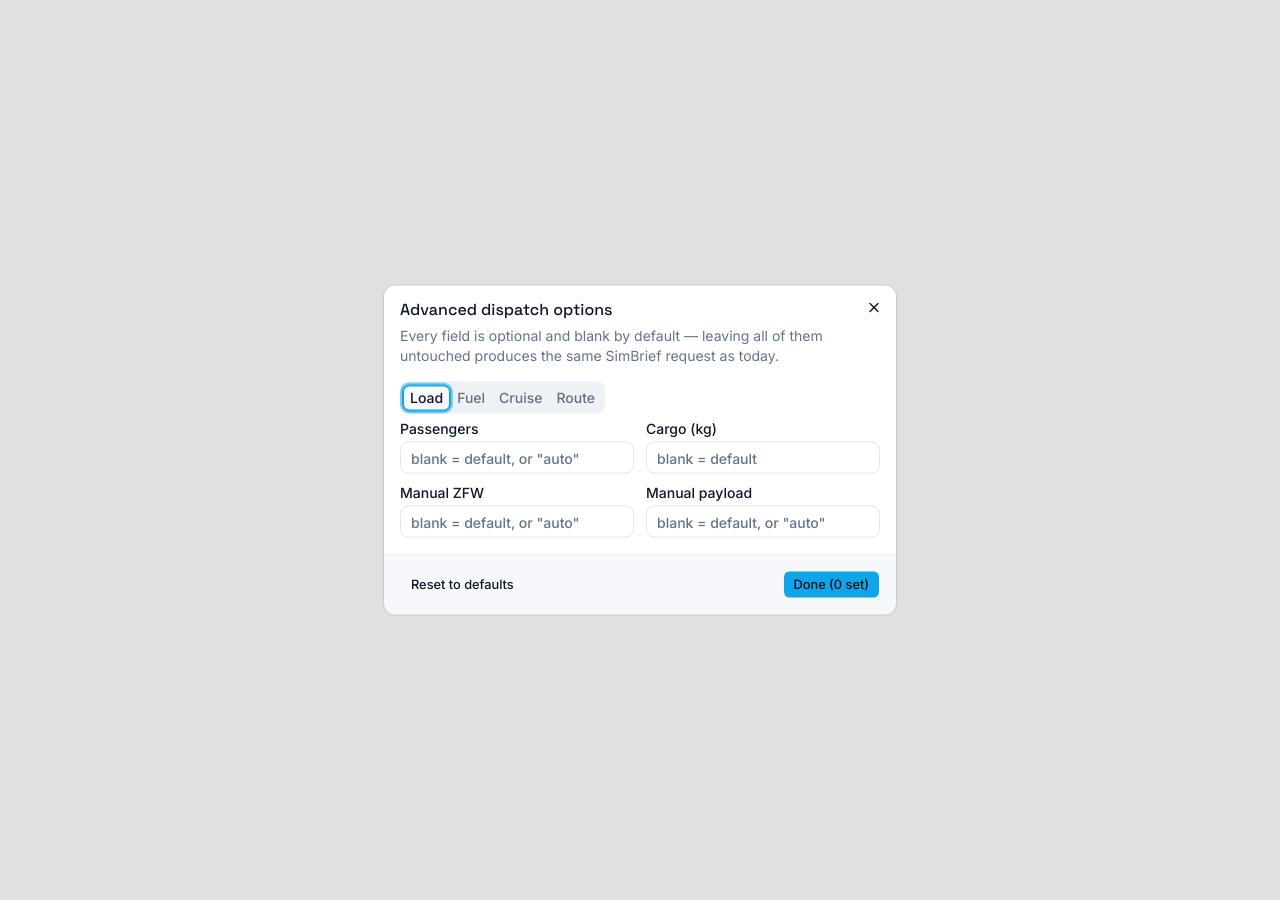
Scenario: DispatchAdvancedDialog › uses a custom placeholder when one is given
Click the tab "Fuel" at (471, 398), box [450,385,492,410]
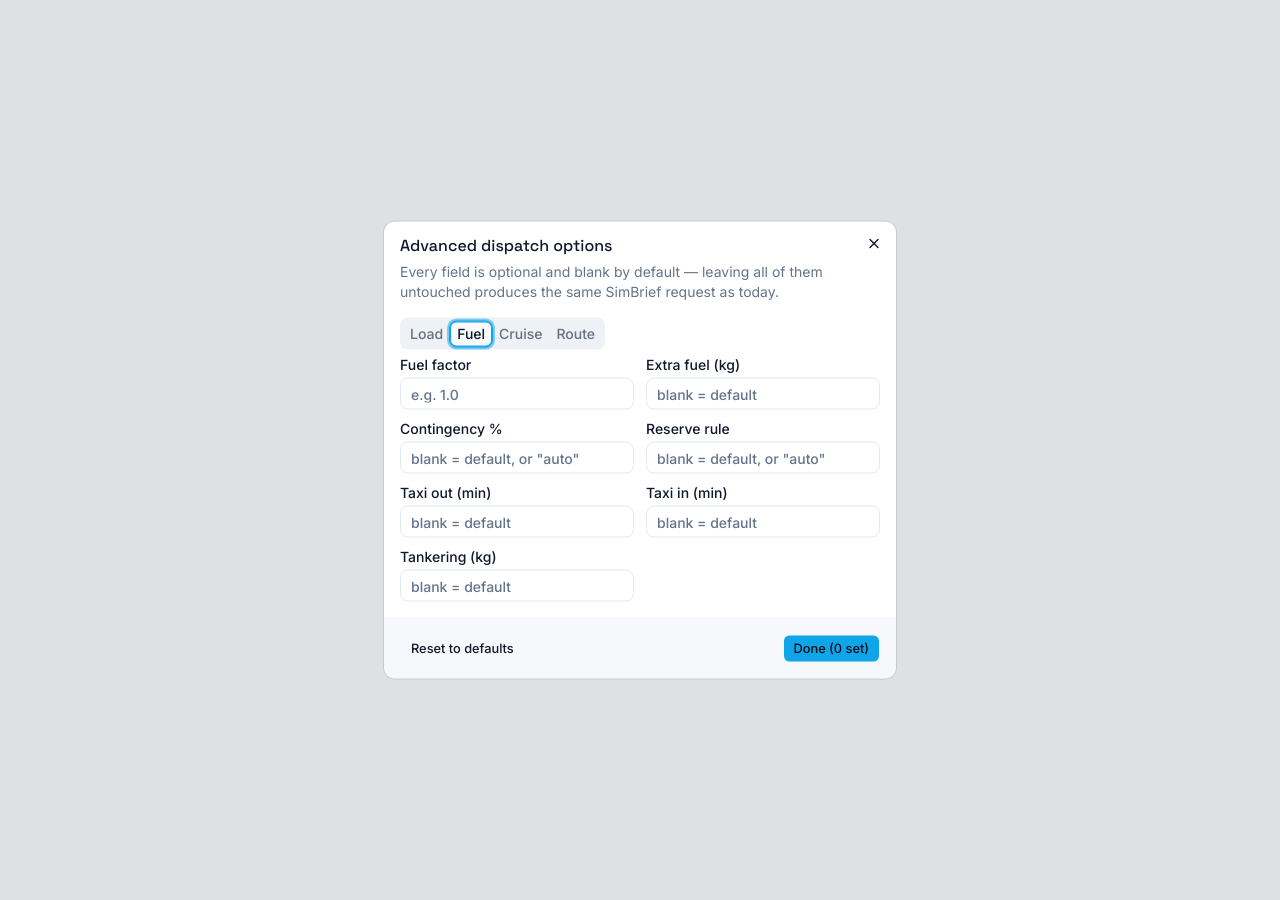
Expected: the field with placeholder "e.g. 1.0" is shown, [400,378,634,410]
Click the tab "Cruise" at (521, 334), box [492,321,550,346]
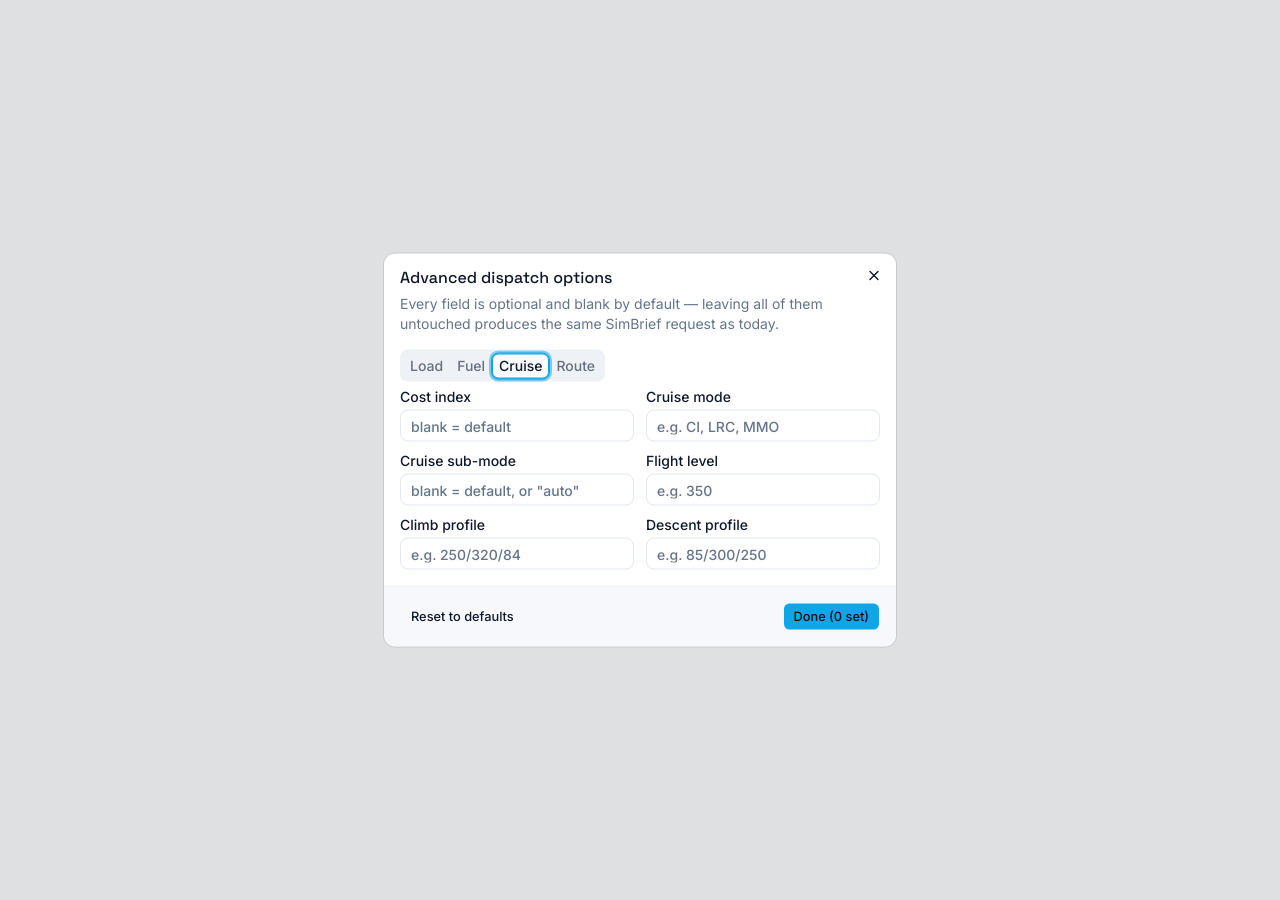
Expected: the field with placeholder "e.g. CI, LRC, MMO" is shown, [646,410,880,442]
Expected: the field with placeholder "e.g. 350" is shown, [646,474,880,506]
Expected: the field with placeholder "e.g. 250/320/84" is shown, [400,538,634,570]
Click the tab "Route" at (576, 366), box [550,353,602,378]
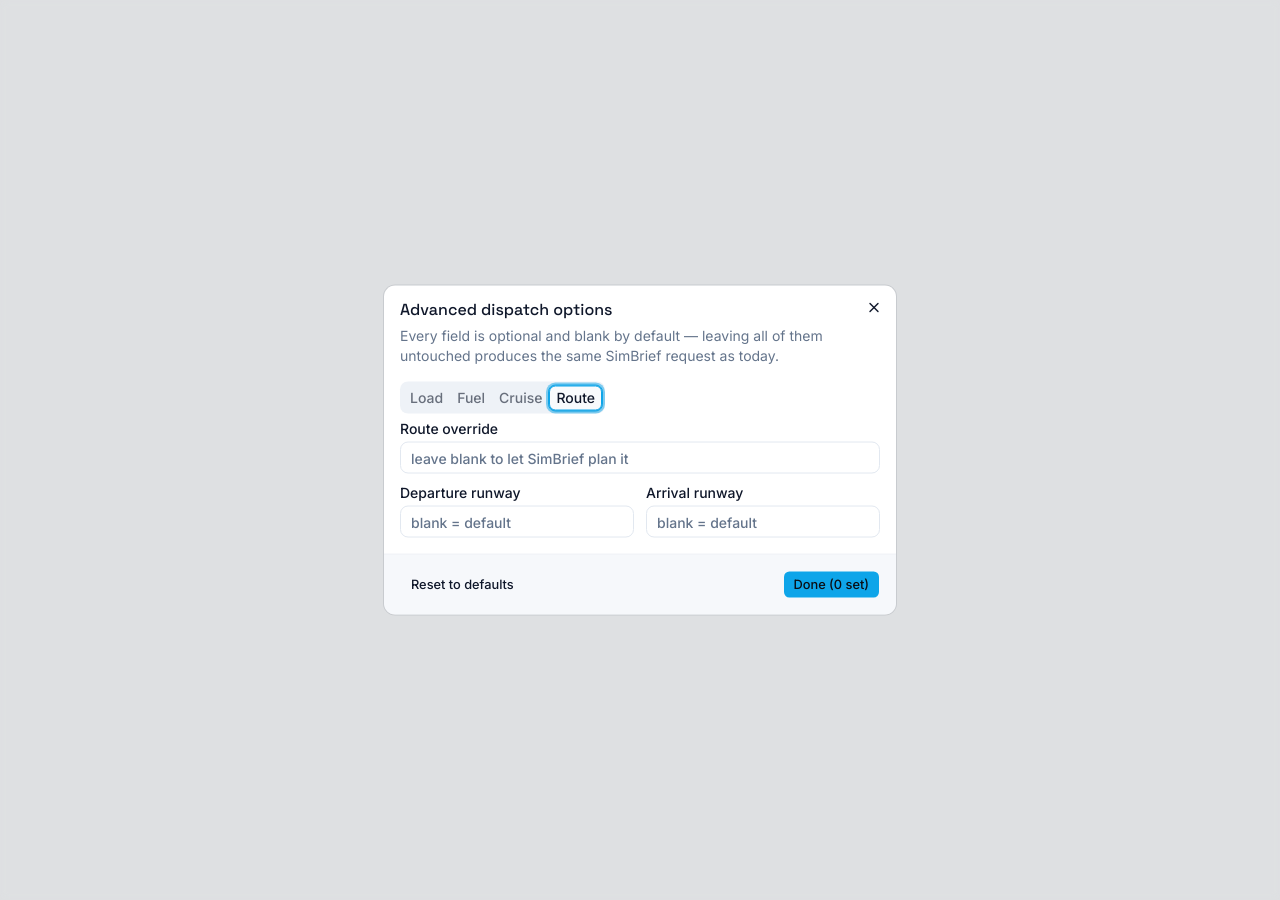
Expected: the field with placeholder "leave blank to let SimBrief plan it" is shown, [400,442,880,474]
